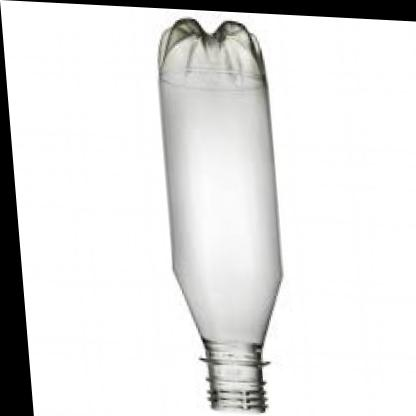Plastic: (128, 11, 298, 416)
